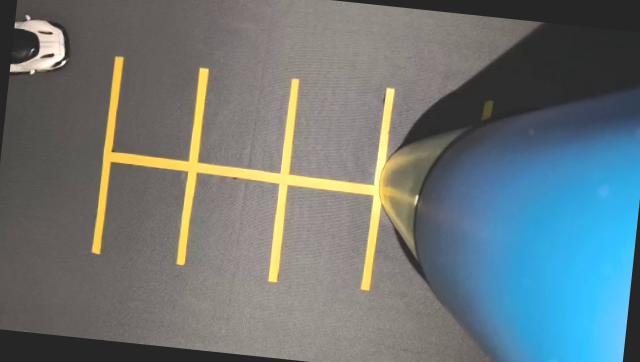toy_car: (7, 0, 101, 99)
